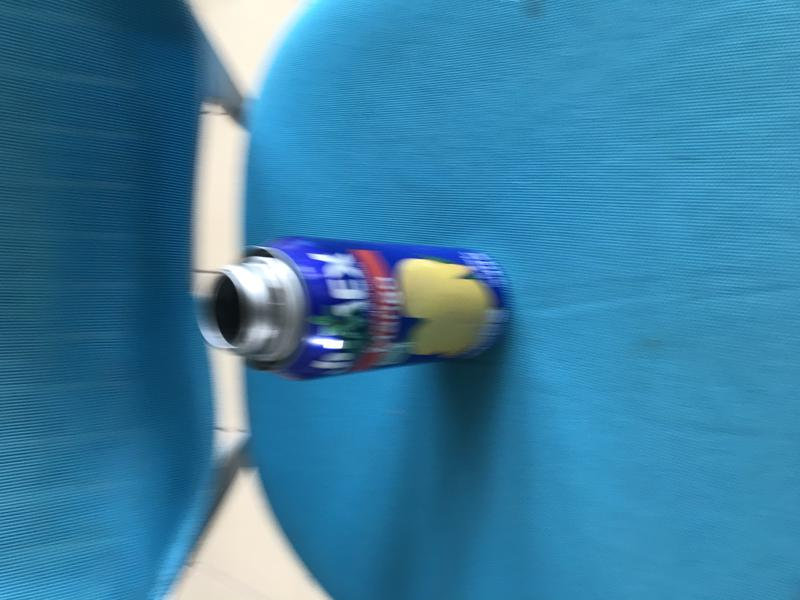jumex_botella: (195, 238, 515, 382)
